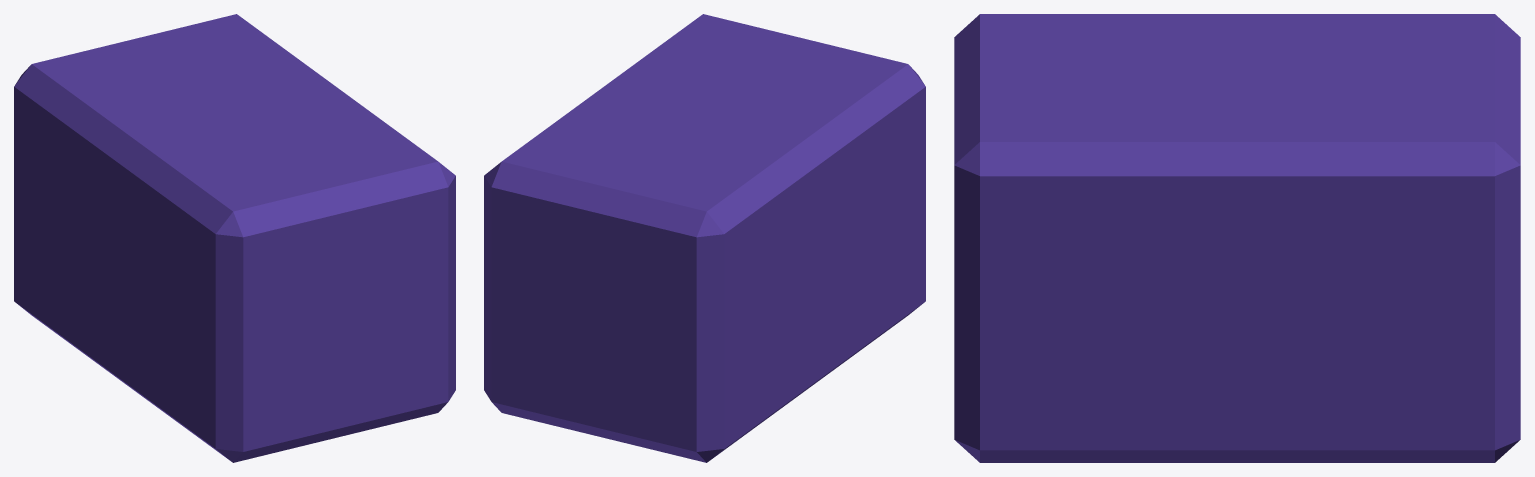
Rendered from medium brick.fbx.
3 renders of one model, left to right at view 1: azimuth 30°, elevation 25°; view 2: azimuth 150°, elevation 25°; view 3: azimuth 270°, elevation 25°, orthographic. The views are drawn at different scales.
Visible parts, largest first — view 1: brocken wall small.004; view 2: brocken wall small.004; view 3: brocken wall small.004.
Boxes of the visible parts, x1,y1,x2,y2 form: brocken wall small.004: (14,14,455,462); brocken wall small.004: (484,14,925,462); brocken wall small.004: (954,14,1520,462).
Size of the model in its own units: 122 by 122 by 195.
